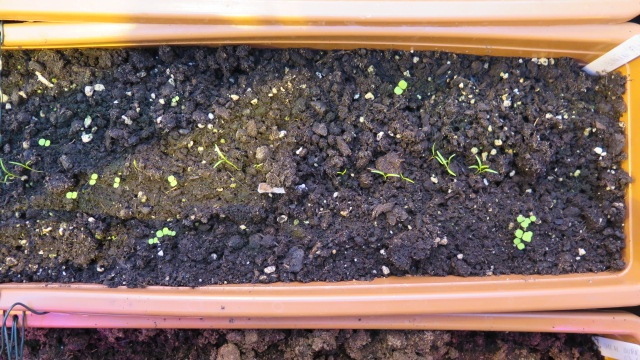crop: (209, 146, 240, 173), (463, 156, 498, 178), (9, 157, 42, 174), (437, 152, 457, 178), (370, 168, 399, 183)
weed: (391, 79, 409, 96), (514, 229, 536, 241), (87, 171, 101, 187), (512, 237, 526, 253), (60, 189, 80, 200), (33, 136, 53, 147), (165, 173, 179, 188), (111, 174, 122, 190), (154, 226, 169, 236), (515, 215, 526, 226), (526, 215, 539, 223), (148, 239, 162, 244)
